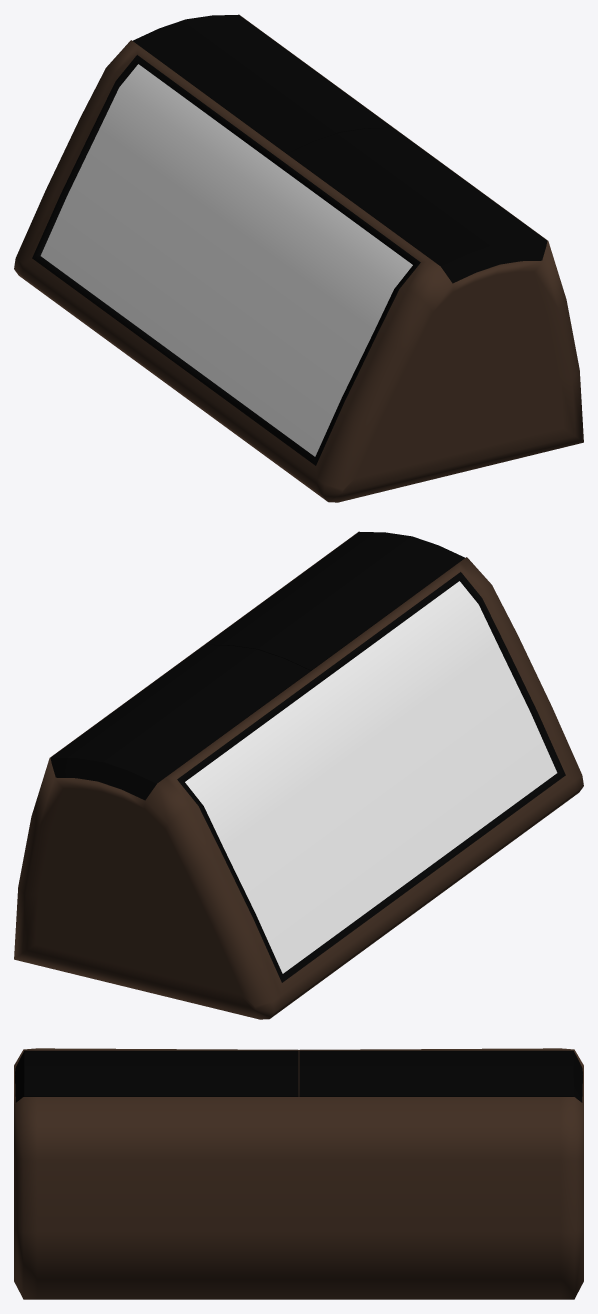
The model's file is Timer.fbx.
The picture shows the model from 3 angles, top to bottom: view 1: azimuth 30°, elevation 25°; view 2: azimuth 150°, elevation 25°; view 3: azimuth 270°, elevation 25°; orthographic projection. The views are drawn at different scales.
Visible parts, largest first — view 1: TimerGlass, TimerBody, TimerButton_Right, TimerButton_Left; view 2: TimerGlass, TimerBody, TimerButton_Left, TimerButton_Right; view 3: TimerBody, TimerButton_Left, TimerButton_Right.
Part boxes in pixels (box(x1,y1,x2,y2)): TimerGlass: box(40, 64, 412, 456); TimerBody: box(14, 14, 583, 502); TimerButton_Right: box(287, 128, 547, 283); TimerButton_Left: box(133, 14, 392, 153); TimerGlass: box(185, 581, 557, 973); TimerBody: box(14, 531, 583, 1019); TimerButton_Left: box(50, 645, 310, 800); TimerButton_Right: box(205, 531, 464, 670); TimerBody: box(14, 1048, 583, 1299); TimerButton_Left: box(299, 1050, 582, 1102); TimerButton_Right: box(15, 1050, 298, 1102).
Bounding box in the file's own units: 194 × 156 × 414.
